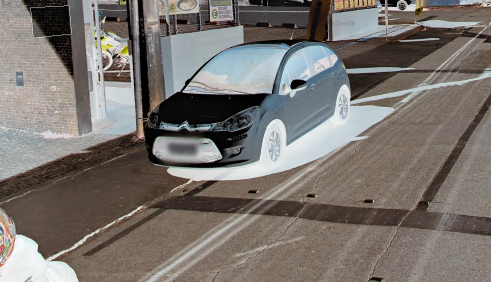car: (141, 28, 355, 176)
